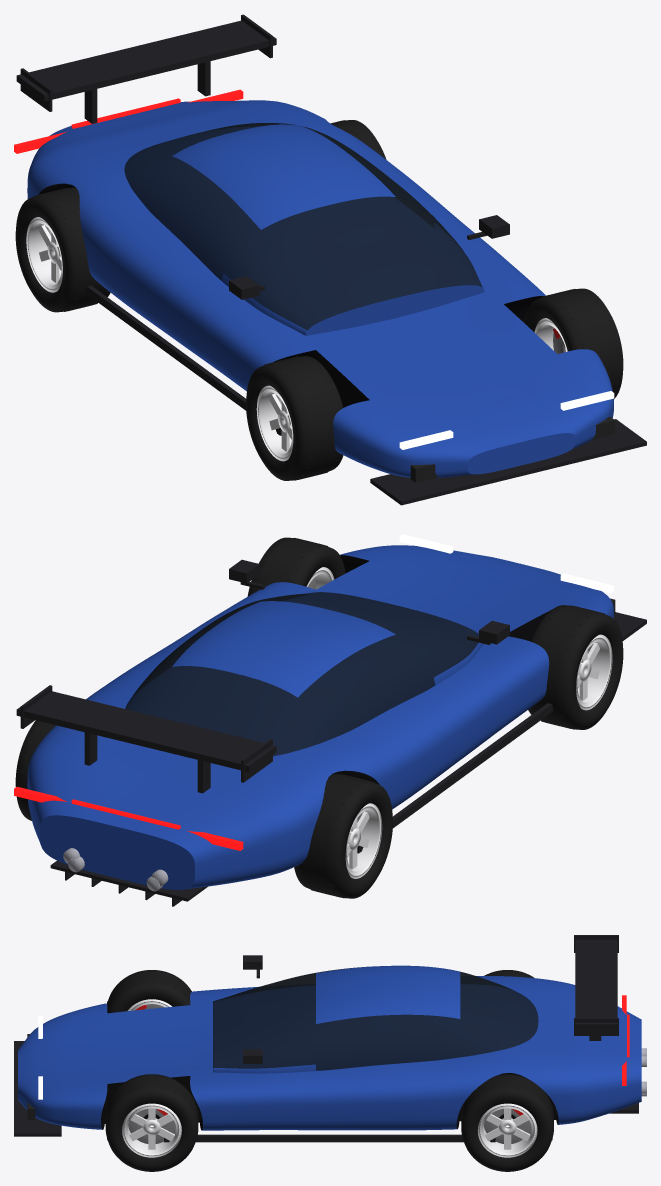
The model's file is modelo001.glb.
3 renders of one model, top to bottom at view 1: azimuth 30°, elevation 25°; view 2: azimuth 150°, elevation 25°; view 3: azimuth 270°, elevation 25°, orthographic. The views are drawn at different scales.
Visible parts, largest first — view 1: Carroceria, Cabine, Pneu_DD, Aerofolio, Pneu_TD, Pneu_DE, Splitter, Soleira.001, Aro_TD, Aro_DD, Pneu_TE; view 2: Carroceria, Cabine, Aerofolio, Pneu_TD, Pneu_DD, Pneu_DE, Soleira.001, Aro_DD, Aro_TD, Difusor, Pneu_TE, Barra_LED_Traseira (+2 smaller); view 3: Carroceria, Cabine, Pneu_DE, Pneu_TE, Aerofolio, Soleira, Pneu_DD, Aro_DE, Aro_TE, Splitter, Raios_DE, Raios_TE (+3 smaller).
Boxes of the visible parts, x1,y1,x2,y2 form: Carroceria: [27, 100, 613, 478]; Cabine: [124, 123, 484, 335]; Pneu_DD: [246, 356, 343, 480]; Aerofolio: [16, 20, 276, 101]; Pneu_TD: [15, 187, 110, 312]; Pneu_DE: [524, 288, 623, 399]; Splitter: [370, 419, 646, 505]; Soleira.001: [85, 285, 281, 435]; Aro_TD: [26, 217, 62, 292]; Aro_DD: [256, 385, 293, 461]; Pneu_TE: [330, 120, 386, 159]; Carroceria: [27, 545, 613, 889]; Cabine: [125, 592, 483, 756]; Aerofolio: [16, 691, 276, 772]; Pneu_TD: [294, 773, 392, 898]; Pneu_DD: [528, 605, 623, 729]; Pneu_DE: [247, 537, 345, 596]; Soleira.001: [357, 703, 553, 853]; Aro_DD: [576, 634, 612, 710]; Aro_TD: [345, 803, 382, 878]; Difusor: [50, 860, 208, 906]; Pneu_TE: [15, 720, 55, 820]; Barra_LED_Traseira: [71, 799, 180, 829]; Carroceria: [18, 976, 641, 1130]; Cabine: [213, 965, 538, 1073]; Pneu_DE: [105, 1074, 198, 1171]; Pneu_TE: [461, 1074, 553, 1171]; Aerofolio: [575, 939, 617, 1029]; Soleira: [164, 1134, 495, 1142]; Pneu_DD: [107, 970, 191, 1013]; Aro_DE: [122, 1103, 181, 1157]; Aro_TE: [477, 1103, 537, 1157]; Splitter: [14, 1041, 61, 1136]; Raios_DE: [129, 1108, 174, 1149]; Raios_TE: [484, 1108, 530, 1149].
Size of the model in its own units: 2.18 by 1.13 by 4.77.
